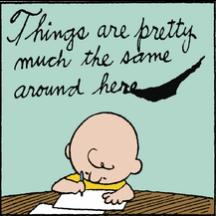charlie: (50, 110, 144, 204)
